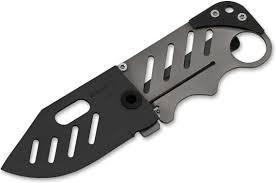Knife: (1, 1, 272, 179)
